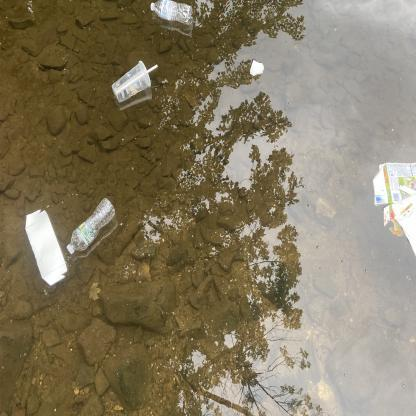trash: (370, 154, 416, 262), (21, 206, 72, 289), (63, 195, 118, 259), (108, 57, 164, 102), (147, 0, 195, 28), (247, 58, 266, 77)
